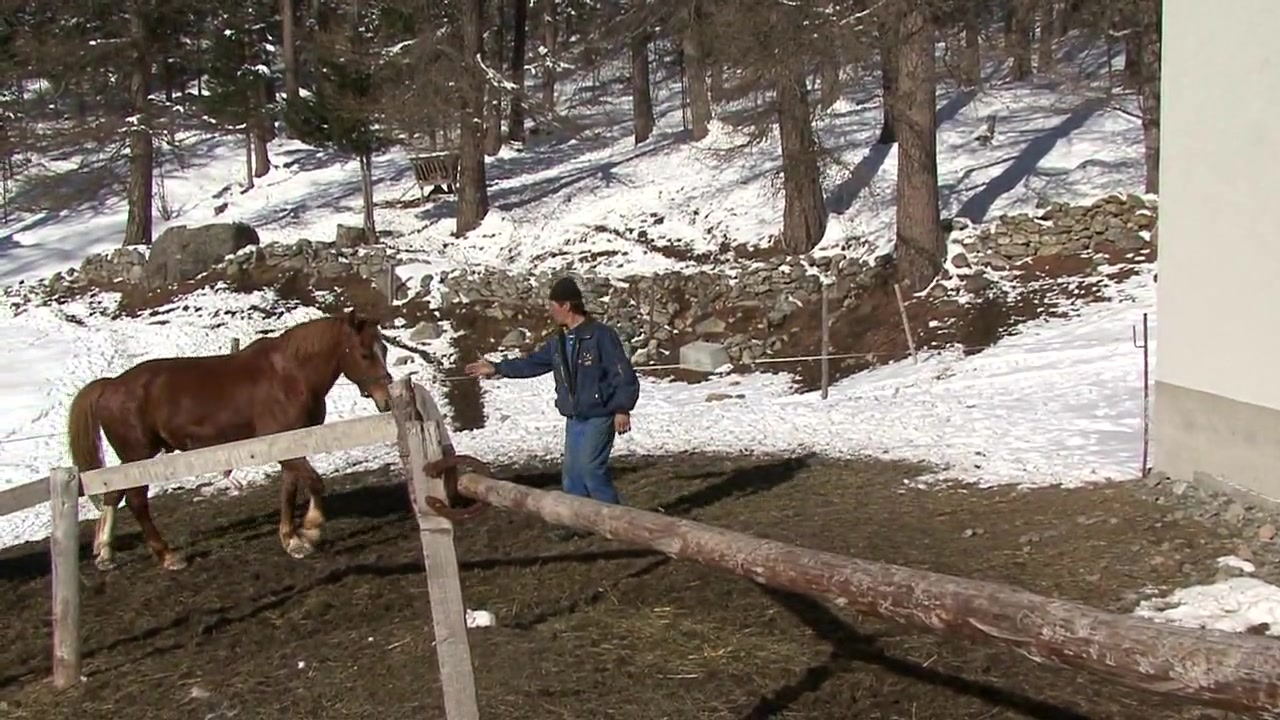horse: (70, 302, 398, 574)
